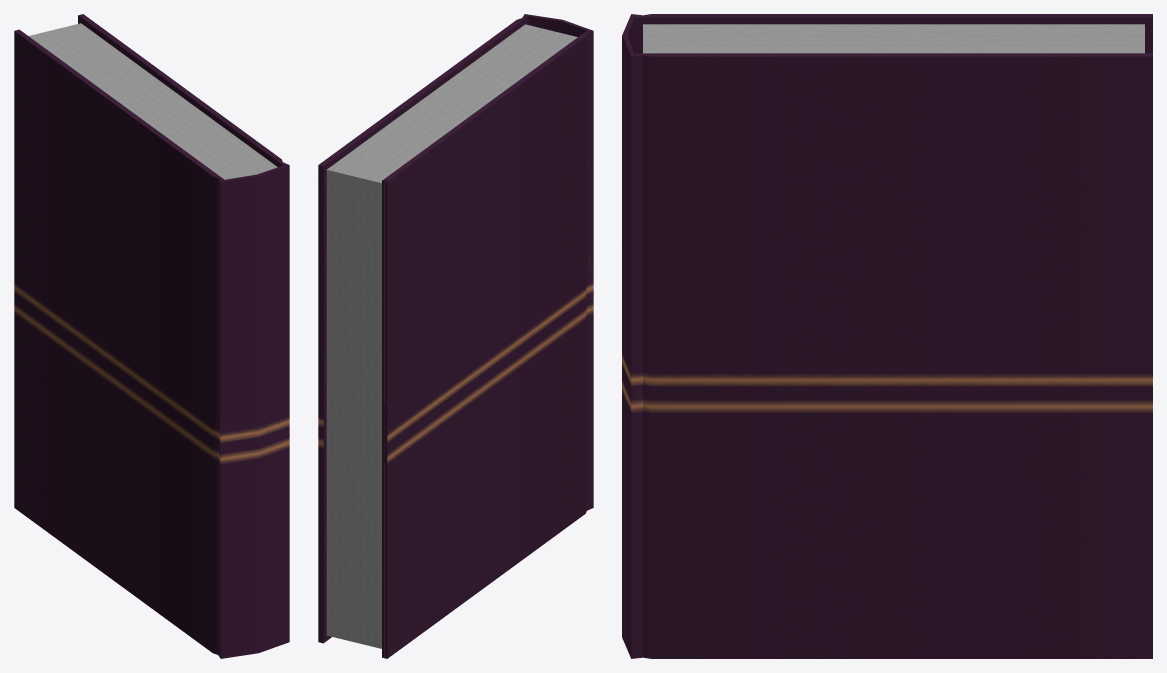
File: Prop_Books_3.fbx
3 views of the same model, side by side, from view 1: azimuth 30°, elevation 25°; view 2: azimuth 150°, elevation 25°; view 3: azimuth 270°, elevation 25° (orthographic). The views are drawn at different scales.
Parts seen in each view (by area): view 1: Prop_Books_3; view 2: Prop_Books_3; view 3: Prop_Books_3.
Part boxes in pixels (x1=…): Prop_Books_3: x1=14, y1=14, x2=289, y2=658; Prop_Books_3: x1=318, y1=14, x2=593, y2=658; Prop_Books_3: x1=622, y1=14, x2=1152, y2=658.
Size of the model in its own units: 0.0264 by 0.1741 by 0.139.
